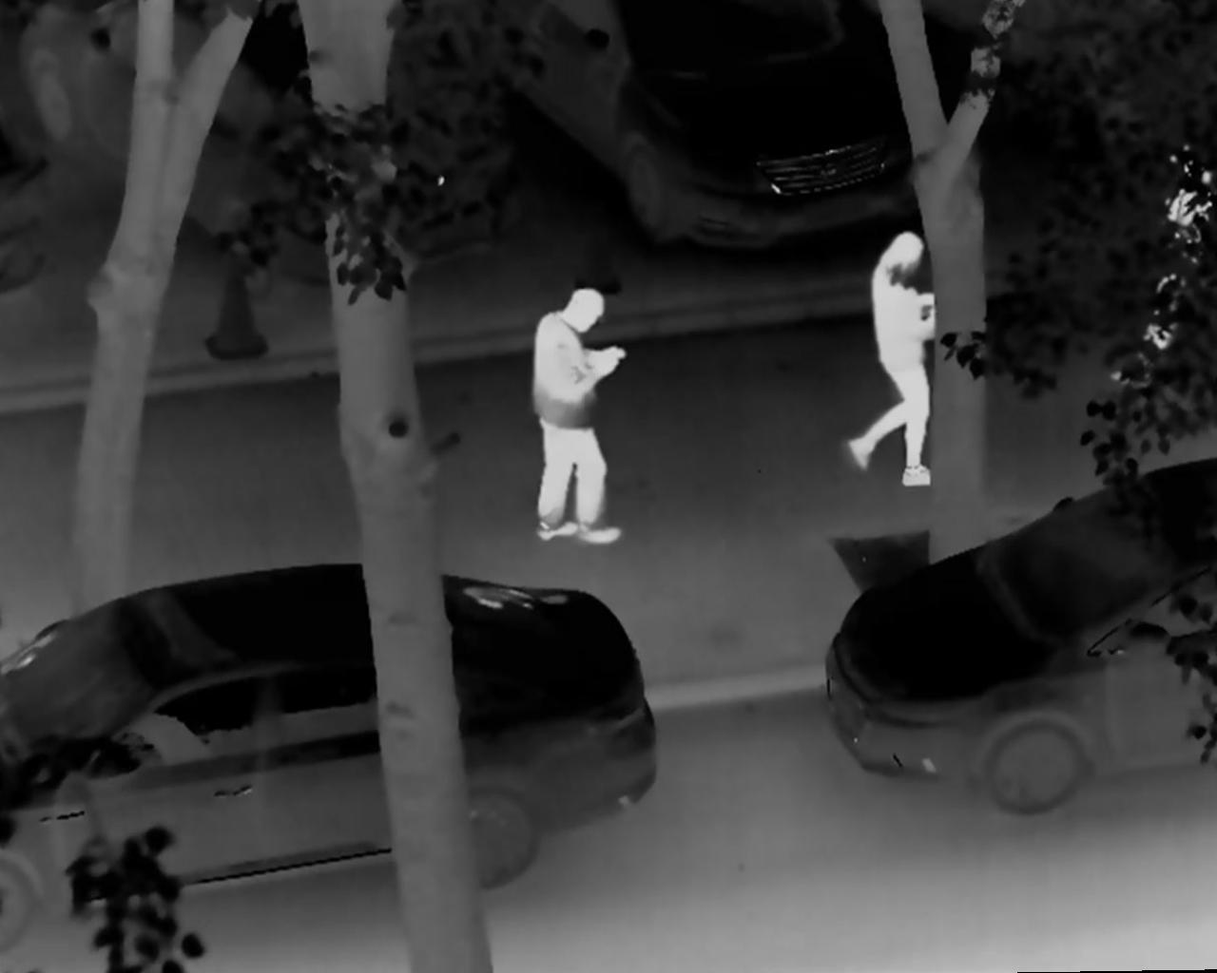person: (1107, 121, 1217, 385), (524, 278, 629, 551), (845, 220, 941, 491)
